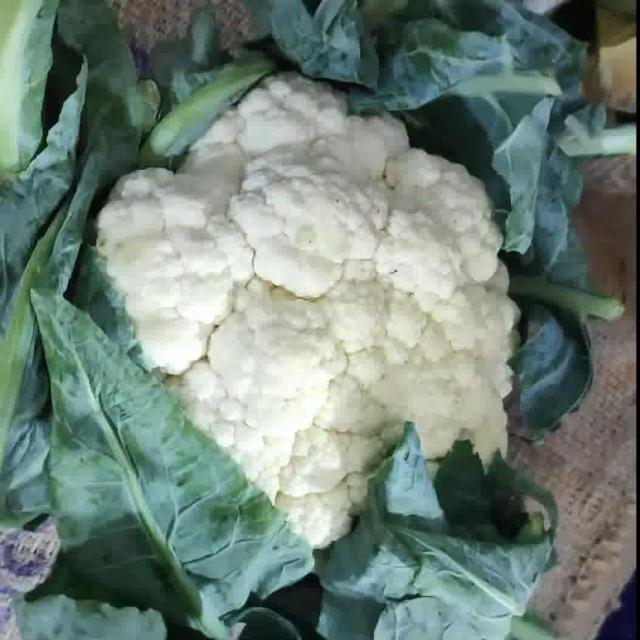Cauliflower: (95, 73, 519, 547)
